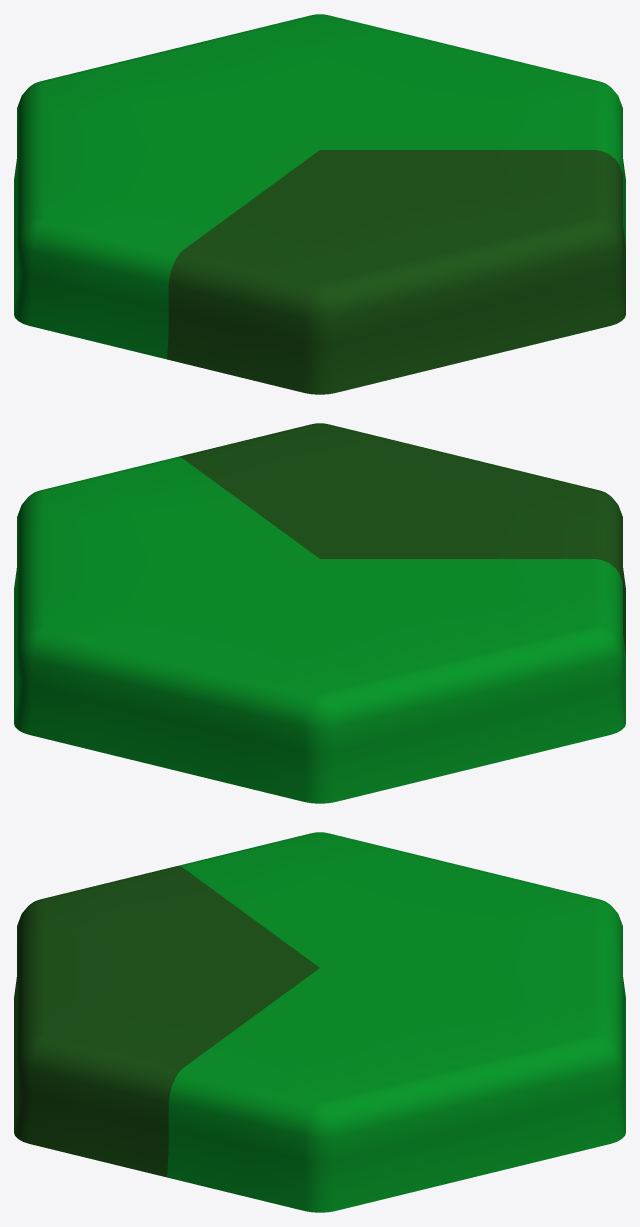
The model's file is B_C_esquina.fbx.
The picture shows the model from 3 angles, top to bottom: view 1: azimuth 30°, elevation 25°; view 2: azimuth 150°, elevation 25°; view 3: azimuth 270°, elevation 25°; orthographic projection.
Visible parts, largest first — view 1: Cylinder; view 2: Cylinder; view 3: Cylinder.
Part boxes in pixels (x1,y1,x2,y2): Cylinder: (14,14,625,394); Cylinder: (14,423,625,803); Cylinder: (14,832,625,1212).
Bounding box in the file's own units: 207 × 31.94 × 182.
